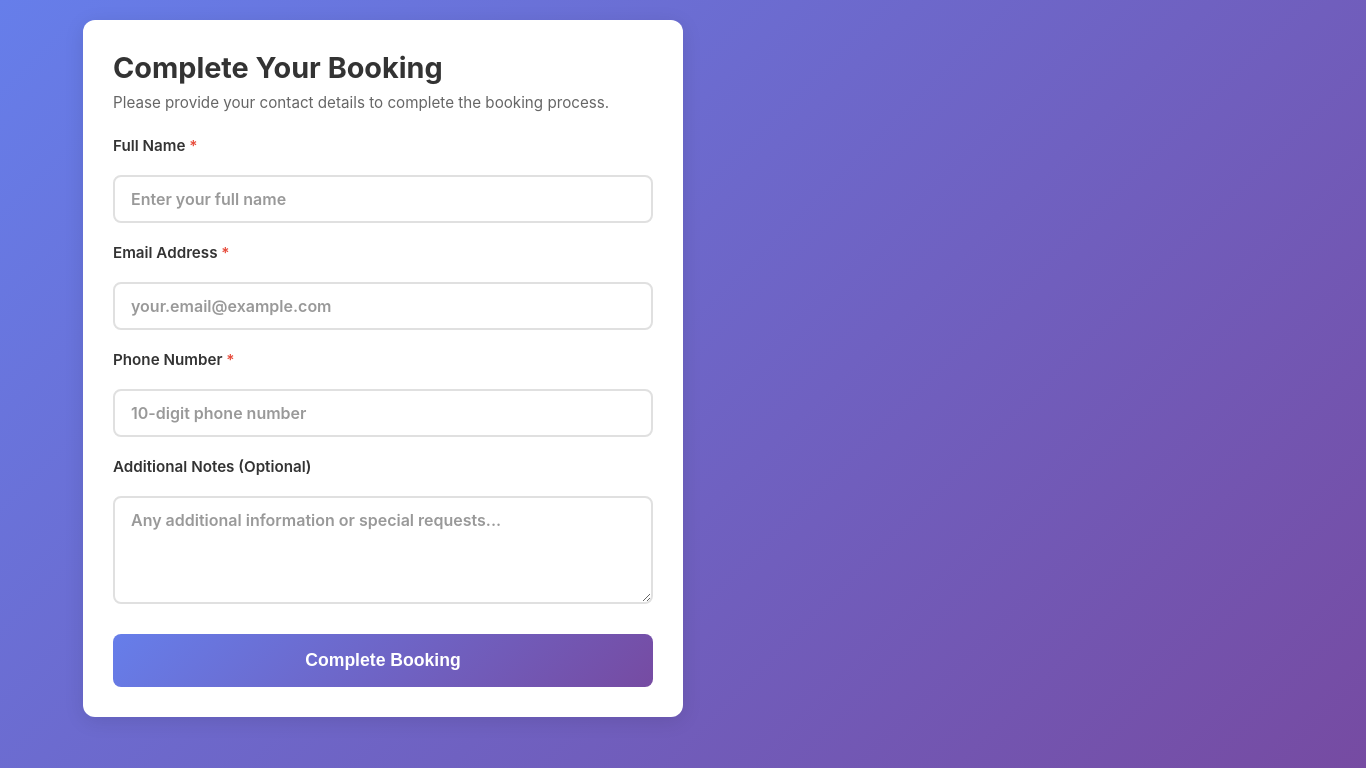
Scenario: ContactForm › validates phone number format
This screenshot has width=1366, height=768.
In the field labelled "Full Name *": (383, 199) x1=113 y1=175 x2=653 y2=223, type "John Doe"
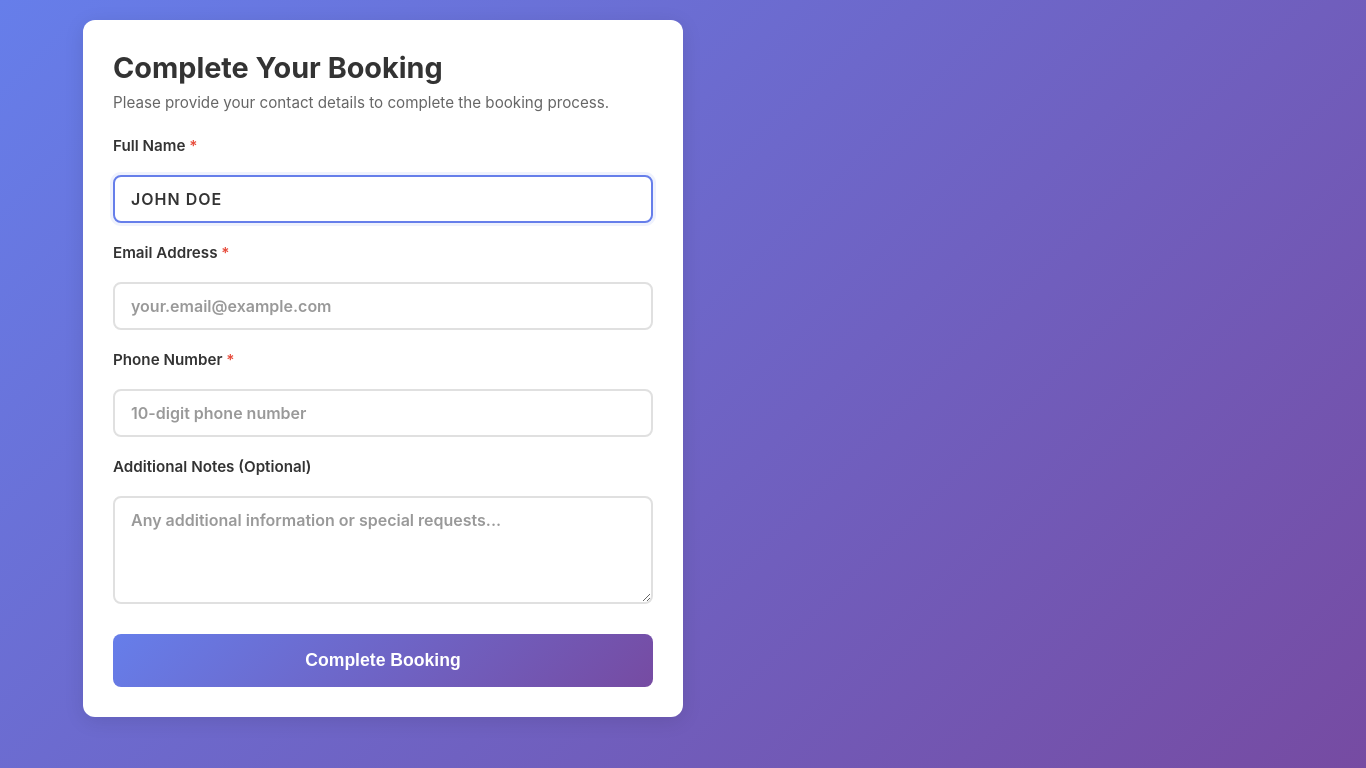
In the field labelled "Email Address *": (383, 306) x1=113 y1=282 x2=653 y2=330, type "john@example.com"
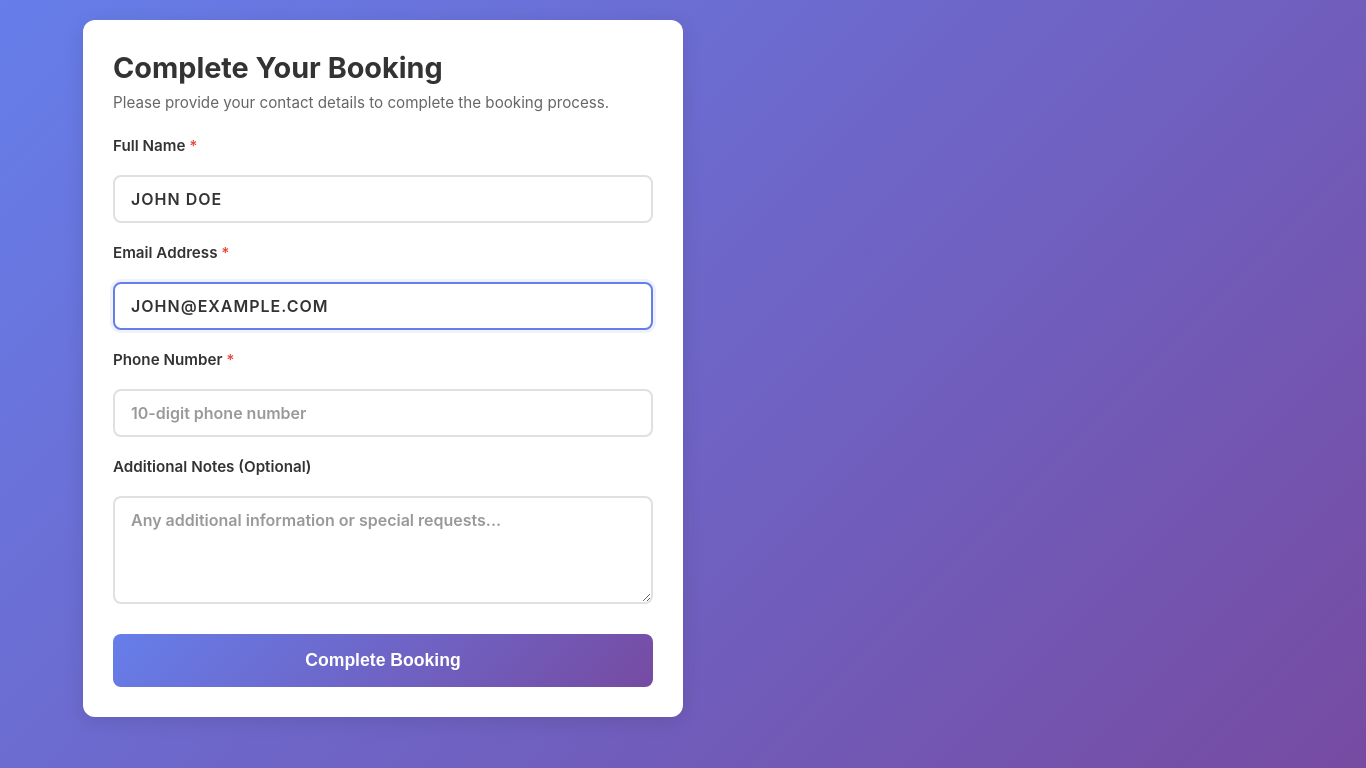
In the field labelled "Phone Number *": (383, 413) x1=113 y1=389 x2=653 y2=437, type "123"
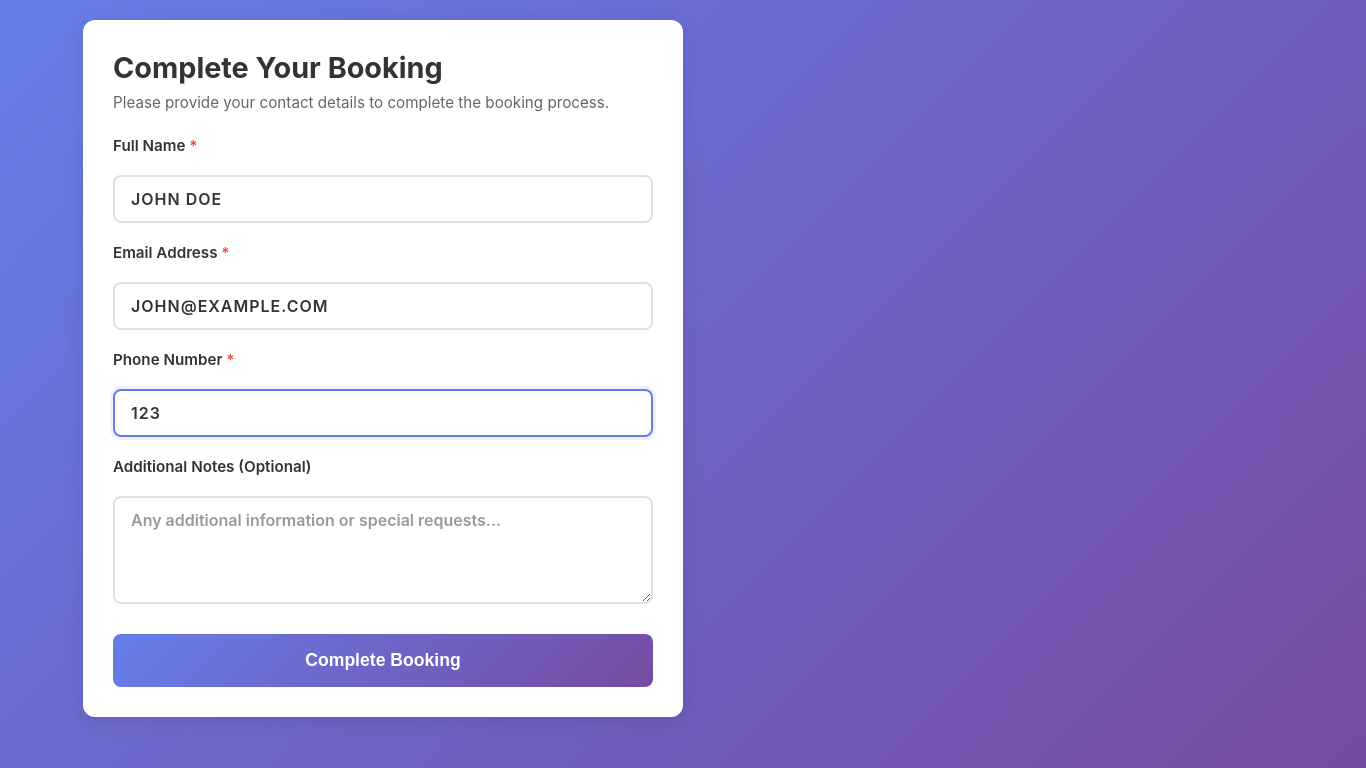
Click the button "Complete Booking": click(383, 660) x1=113 y1=634 x2=653 y2=687
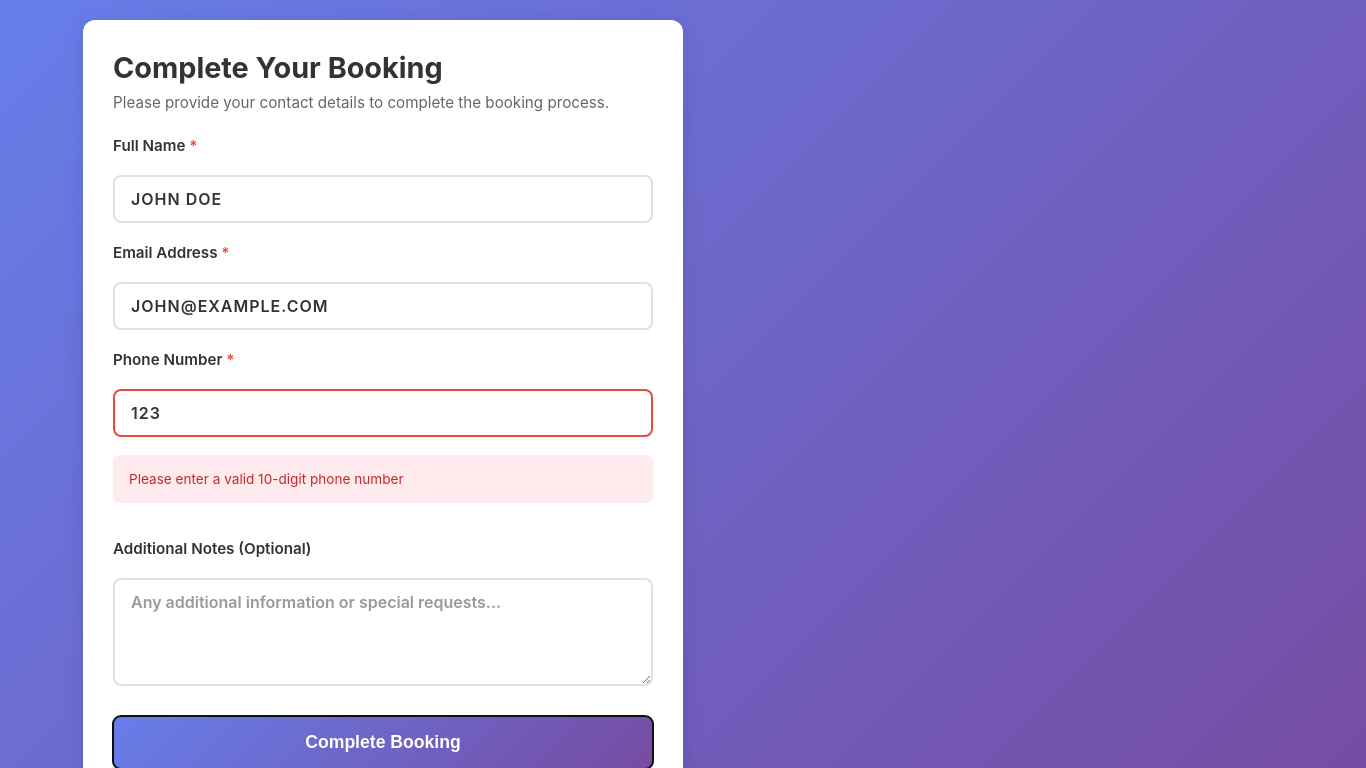
Result: the text "Please enter a valid 10-digit phone number" is shown at x1=113 y1=455 x2=653 y2=503
